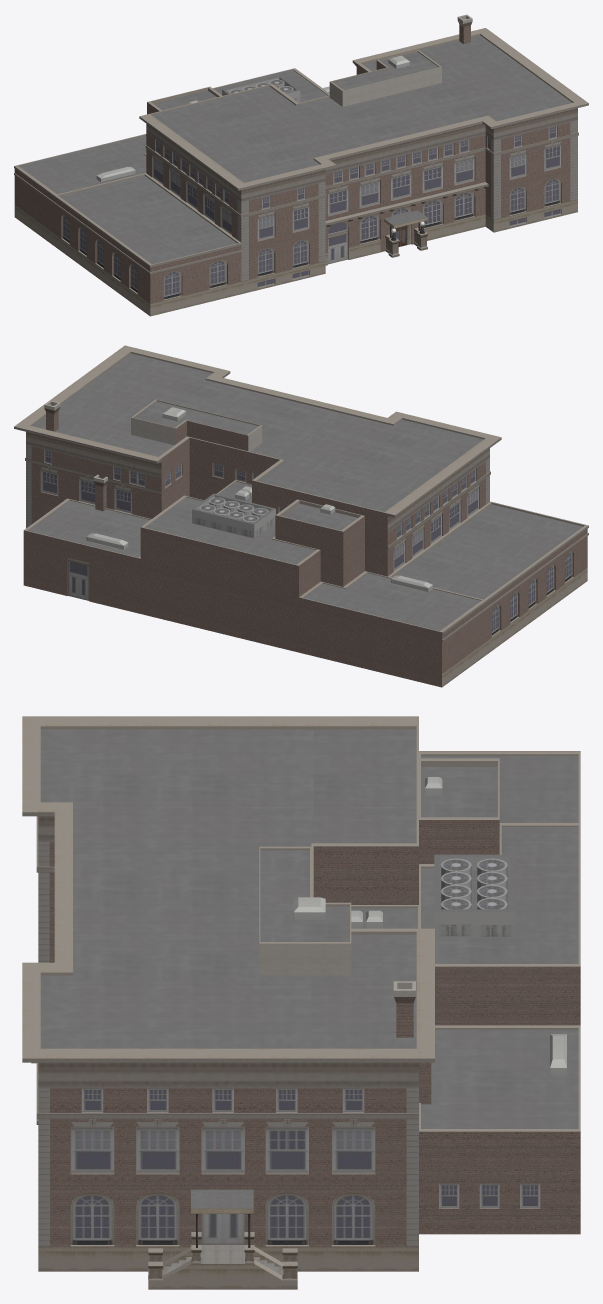
Rendered from building-h.glb.
The picture shows the model from 3 angles, top to bottom: view 1: azimuth 30°, elevation 25°; view 2: azimuth 150°, elevation 25°; view 3: azimuth 270°, elevation 25°; orthographic projection. The views are drawn at different scales.
Parts seen in each view (by area): view 1: 317washingtonobjcleanermaterialmergergles; view 2: 317washingtonobjcleanermaterialmergergles; view 3: 317washingtonobjcleanermaterialmergergles.
Boxes of the visible parts, x1,y1,x2,y2 form: 317washingtonobjcleanermaterialmergergles: [14, 14, 588, 316]; 317washingtonobjcleanermaterialmergergles: [14, 345, 588, 687]; 317washingtonobjcleanermaterialmergergles: [22, 716, 580, 1289].
Bounding box in the file's own units: 2 × 0.5661 × 1.08.
1 material, 1 textured.
